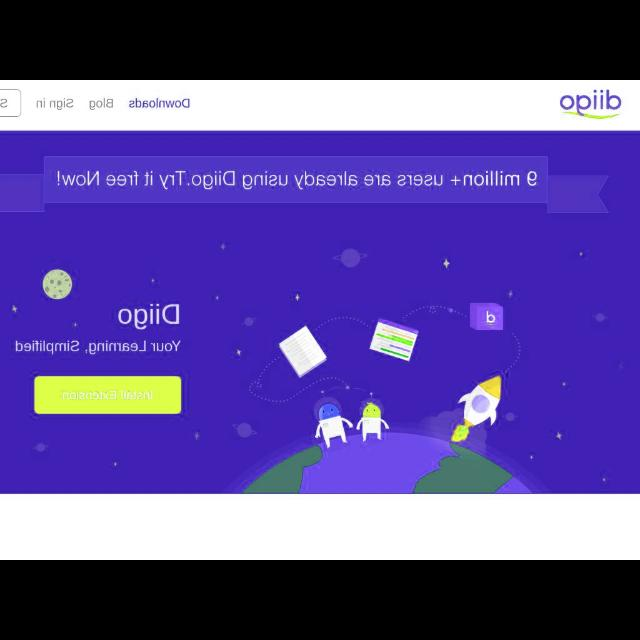backgroundimage: (1, 132, 639, 494)
image: (559, 87, 621, 119)
text: (58, 172, 536, 190), (16, 341, 180, 355), (119, 304, 179, 330), (64, 390, 152, 400), (130, 99, 190, 108), (36, 98, 74, 110), (89, 100, 113, 110), (1, 99, 7, 107)
textbutton: (36, 376, 180, 414), (1, 90, 21, 116)
toolbar: (1, 80, 639, 130)
